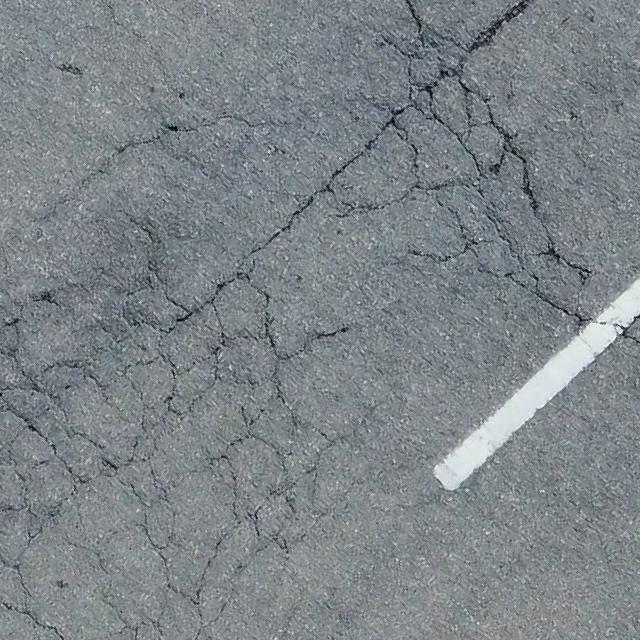GRIETA: (34, 114, 297, 228), (100, 0, 170, 86), (242, 188, 324, 260), (467, 0, 533, 52), (557, 308, 639, 345), (154, 142, 210, 178), (292, 327, 349, 358), (407, 250, 463, 264), (404, 0, 421, 25)
PIEL DE COCODRILO: (0, 198, 363, 639), (324, 23, 604, 312)
